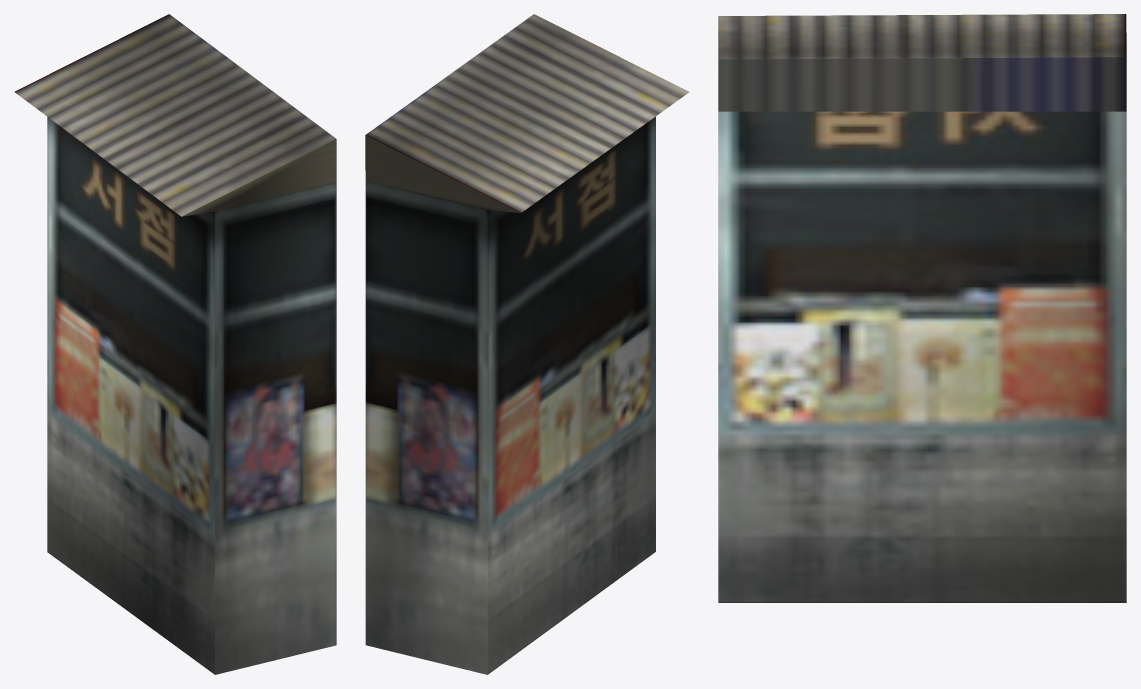
The model's file is seojeom_window.FBX.
3 renders of one model, left to right at view 1: azimuth 30°, elevation 25°; view 2: azimuth 150°, elevation 25°; view 3: azimuth 270°, elevation 25°, orthographic. The views are drawn at different scales.
Visible parts, largest first — view 1: polySurface27; view 2: polySurface27; view 3: polySurface27.
Part boxes in pixels (left/top/right/bottom): polySurface27: left=14, top=14, right=336, bottom=674; polySurface27: left=365, top=14, right=689, bottom=674; polySurface27: left=718, top=14, right=1126, bottom=602.
Bounding box in the file's own units: 3.94 × 12.3 × 7.36.
